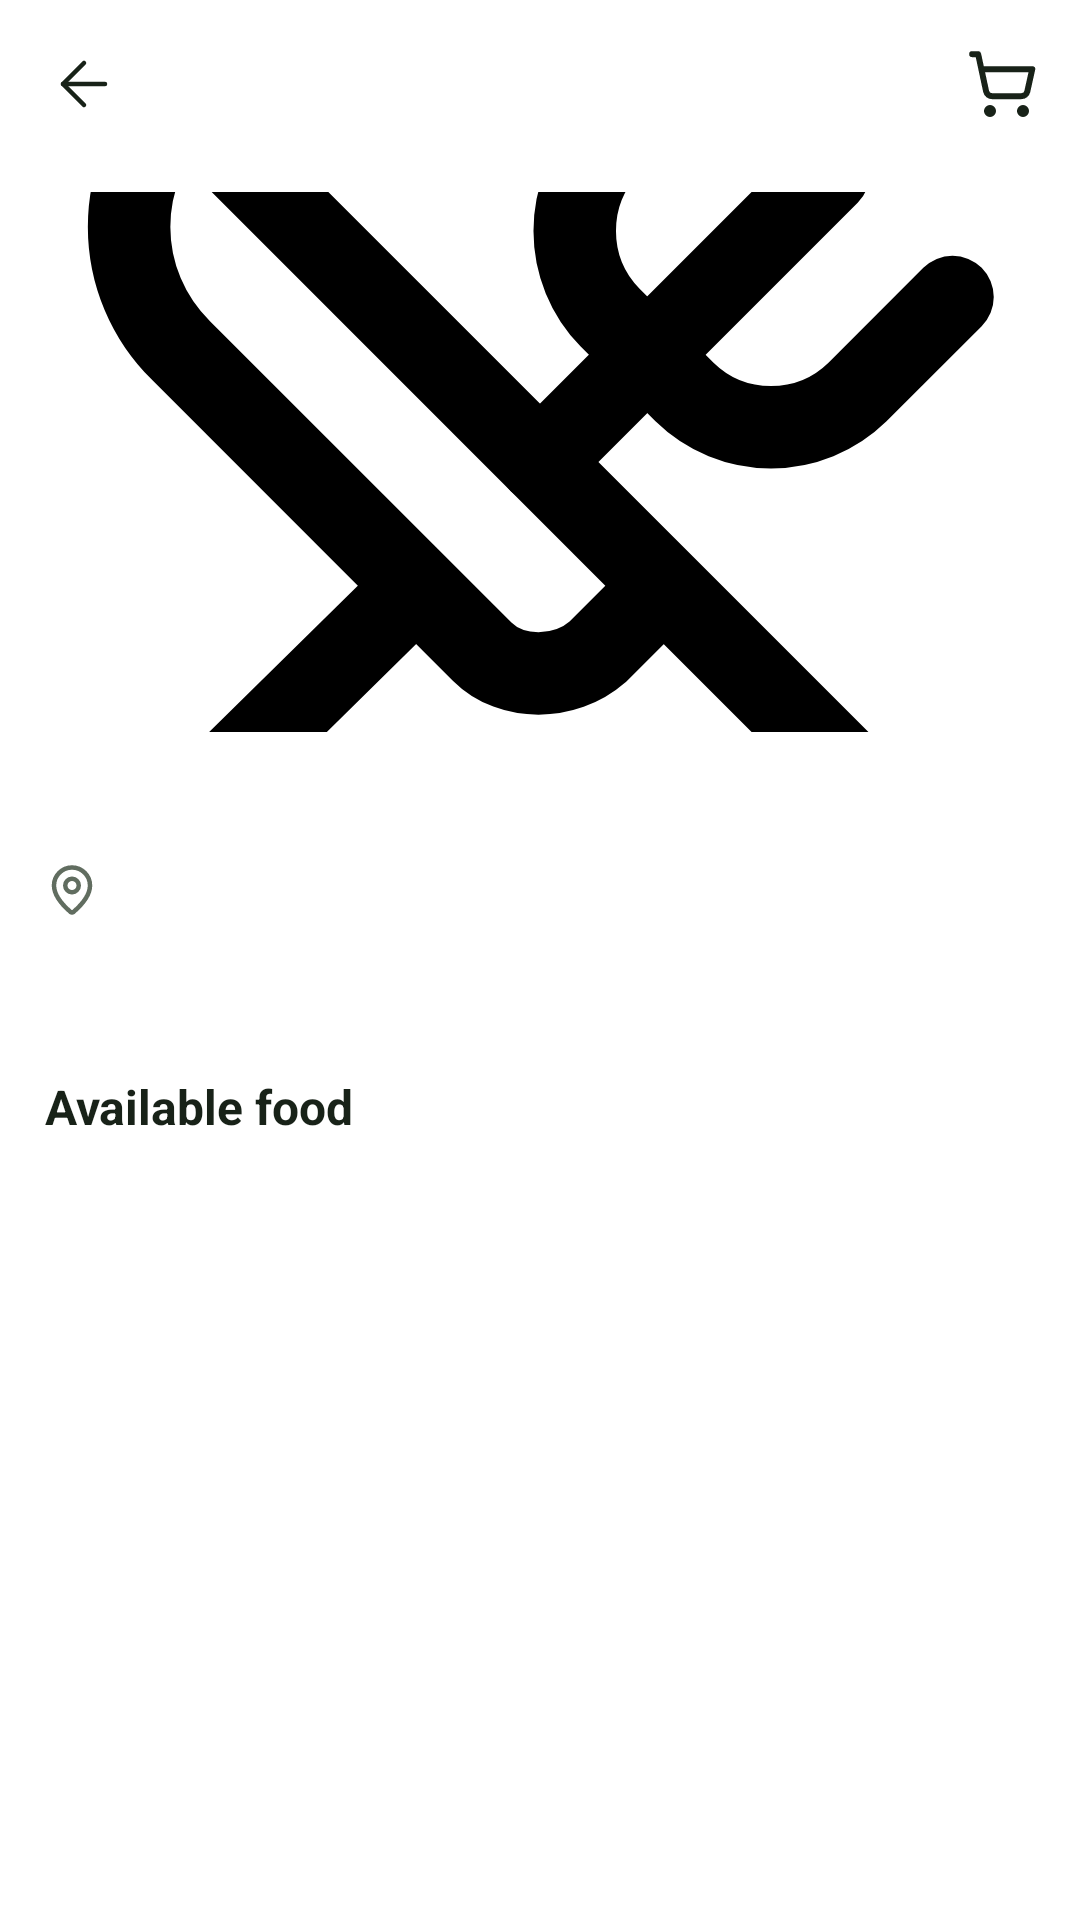

Screen size 1080x1920. Icon name, then its box in pixels as [x1, y1, x2, y2]:
Back: [60, 60, 107, 108]
cart: [969, 51, 1036, 117]
map: [51, 865, 93, 915]
